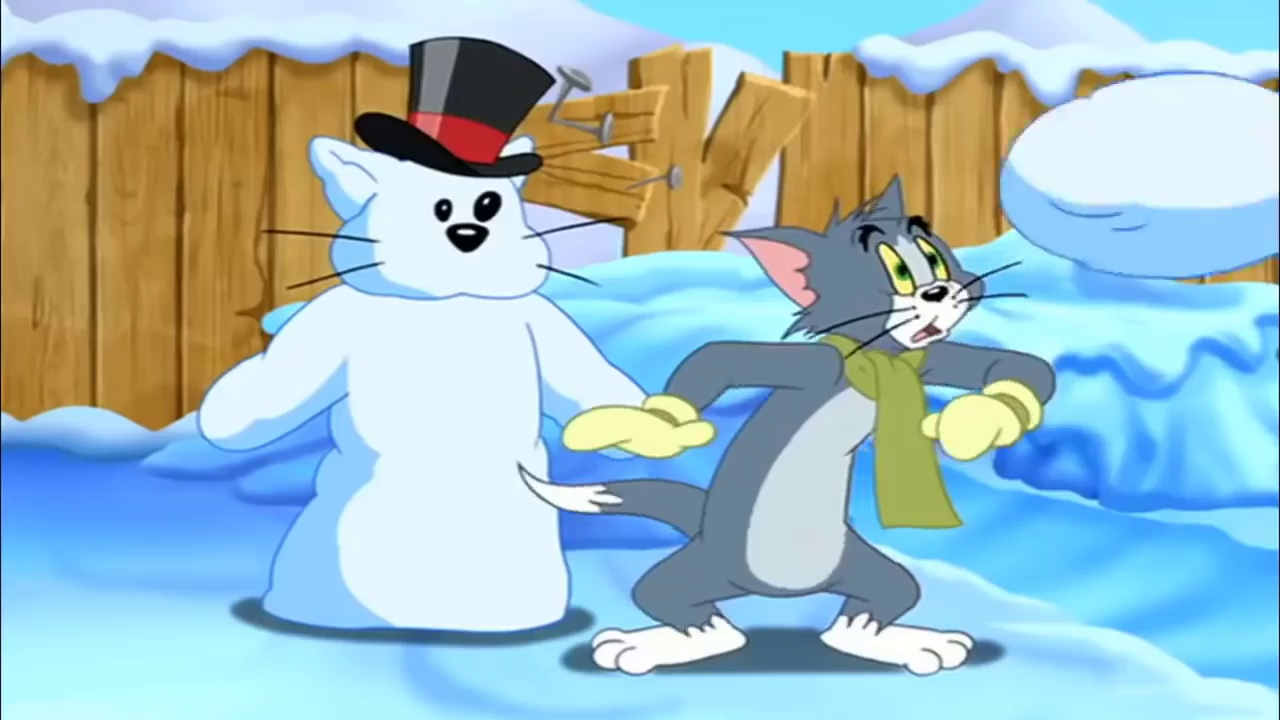face: (850, 214, 973, 352)
